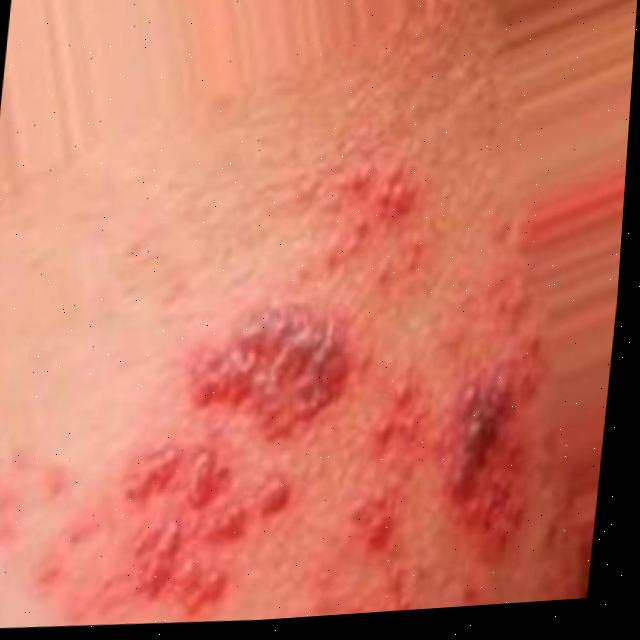Shingles: (64, 127, 576, 633)
